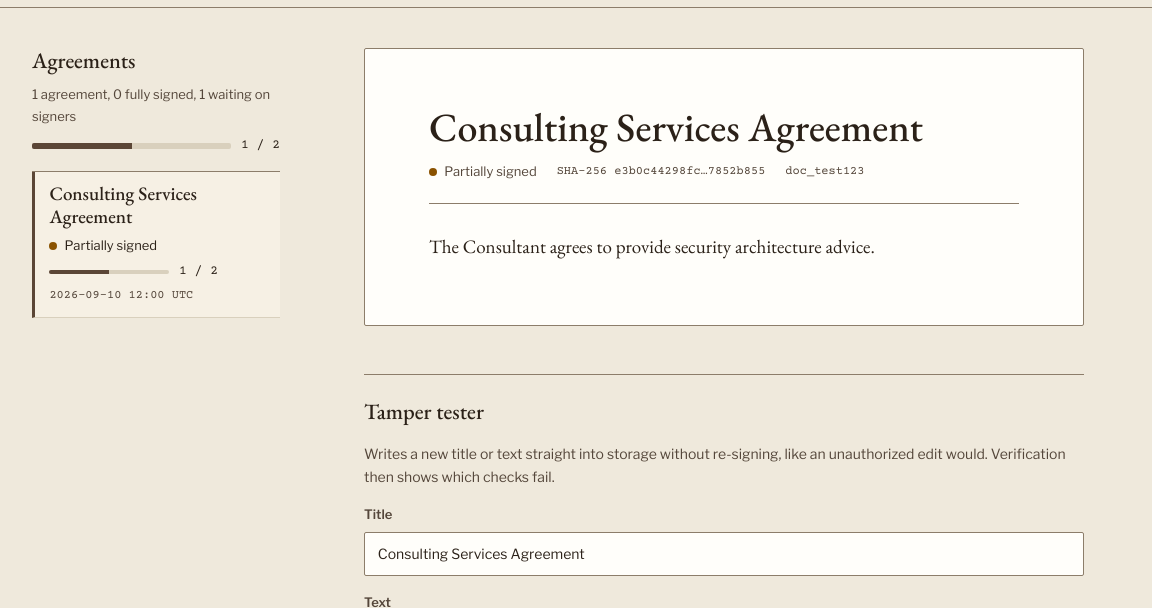
Scenario: DocuTrust dashboard › writes a title edit, re-verifies, and reports a broken seal
The image size is (1152, 608).
Replace the text in the field labelled "Title" with "Consulting Services Agreement v2": [724, 554] box [364,532,1084,576]
(page scrolled)
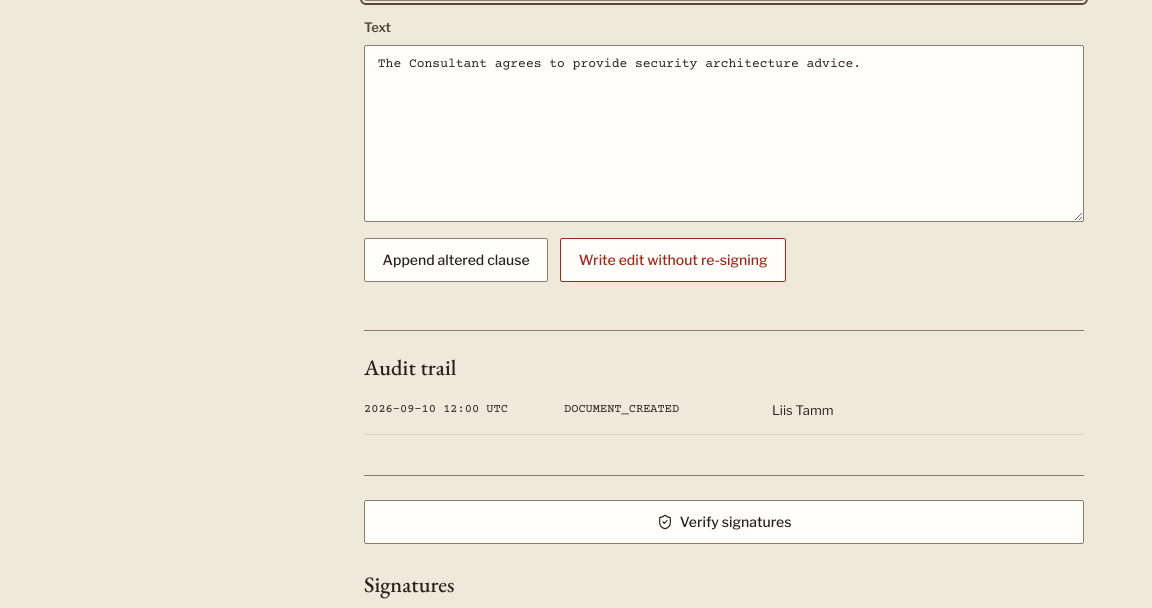
Click the button "Write edit without re-signing": [673, 260] box [560,238,786,282]
(page scrolled)
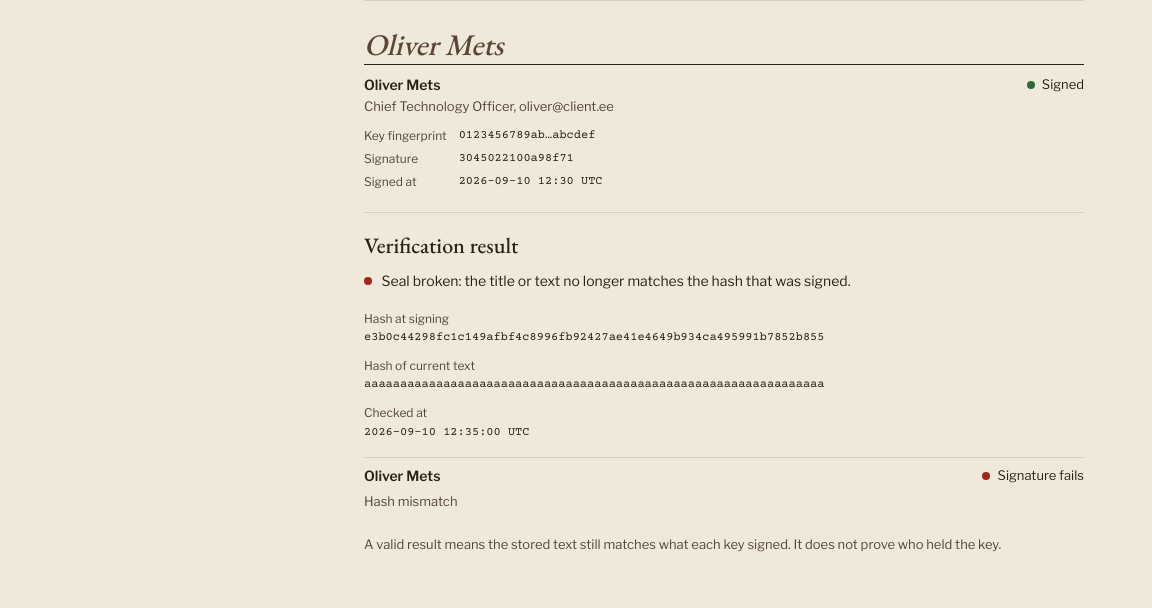
Result: the text "Seal broken" is shown at [382,272,851,289]
Result: the text "Signature fails" is shown at [982,465,1084,486]
